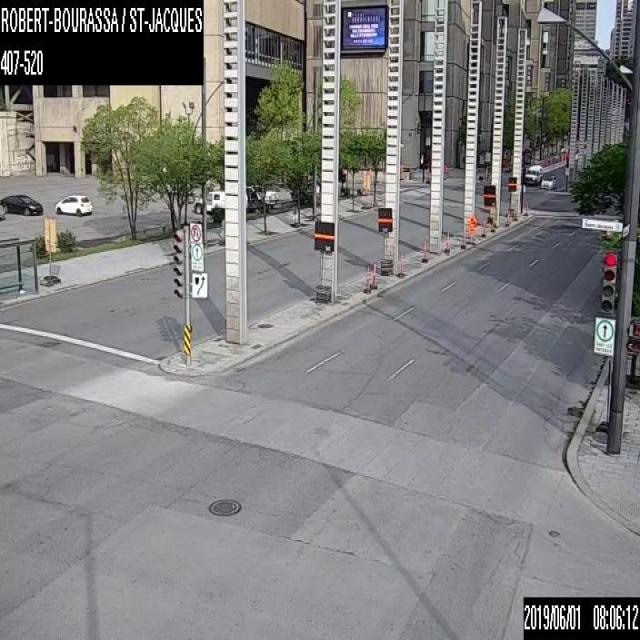construction: (459, 212, 478, 248), (397, 254, 405, 278), (442, 230, 450, 253), (420, 235, 427, 261), (364, 265, 370, 290), (371, 262, 377, 286), (489, 214, 495, 230), (481, 217, 485, 235), (504, 211, 509, 224), (525, 199, 529, 213)
vehicle: (0, 193, 43, 214), (193, 189, 225, 215), (54, 193, 93, 214), (250, 184, 278, 208), (524, 164, 542, 184), (540, 175, 554, 188), (0, 201, 6, 219)
